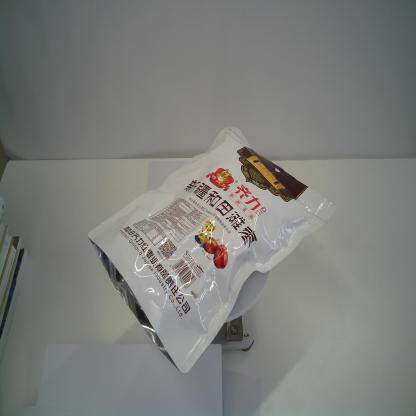Dried Food: (87, 126, 340, 374)
